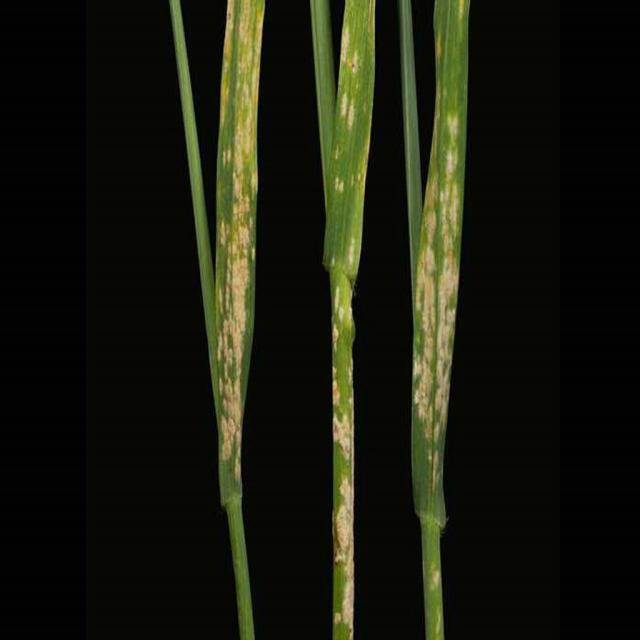wheat-powdery-mildew: (216, 0, 265, 496), (412, 49, 460, 528), (330, 263, 354, 625)
